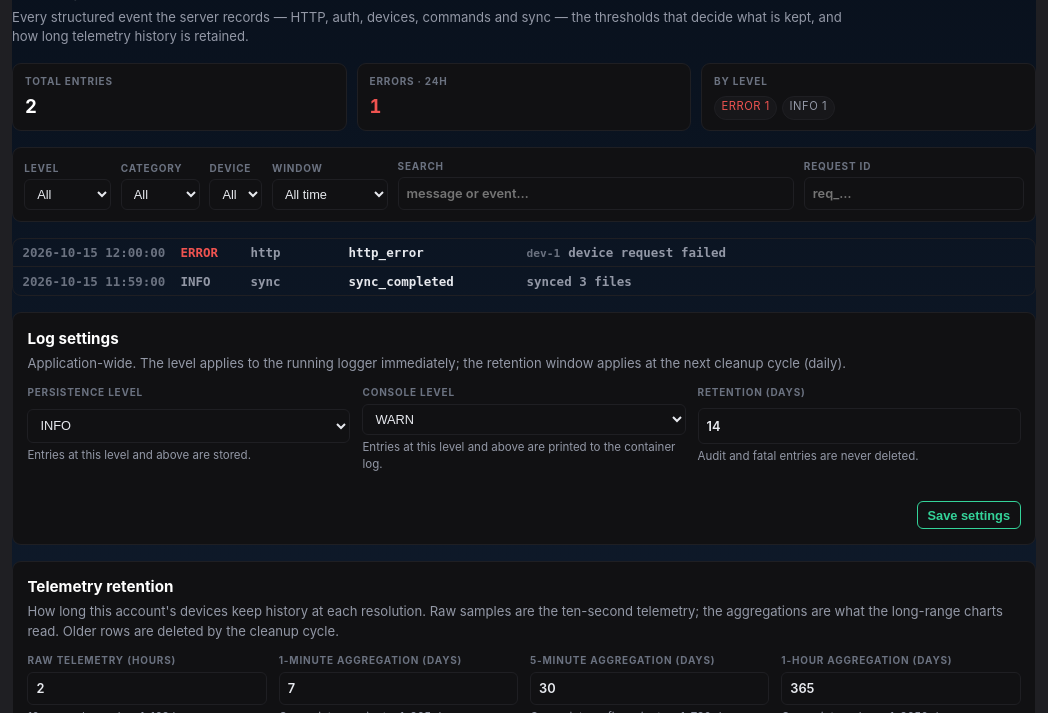
it: Application settings screen › saves telemetry retention and confirms
The width and height of the screenshot is (1048, 713).
Replace the text in the number field labelled "Raw telemetry (hours)" with "6" at (147,689), box [27,672,267,705]
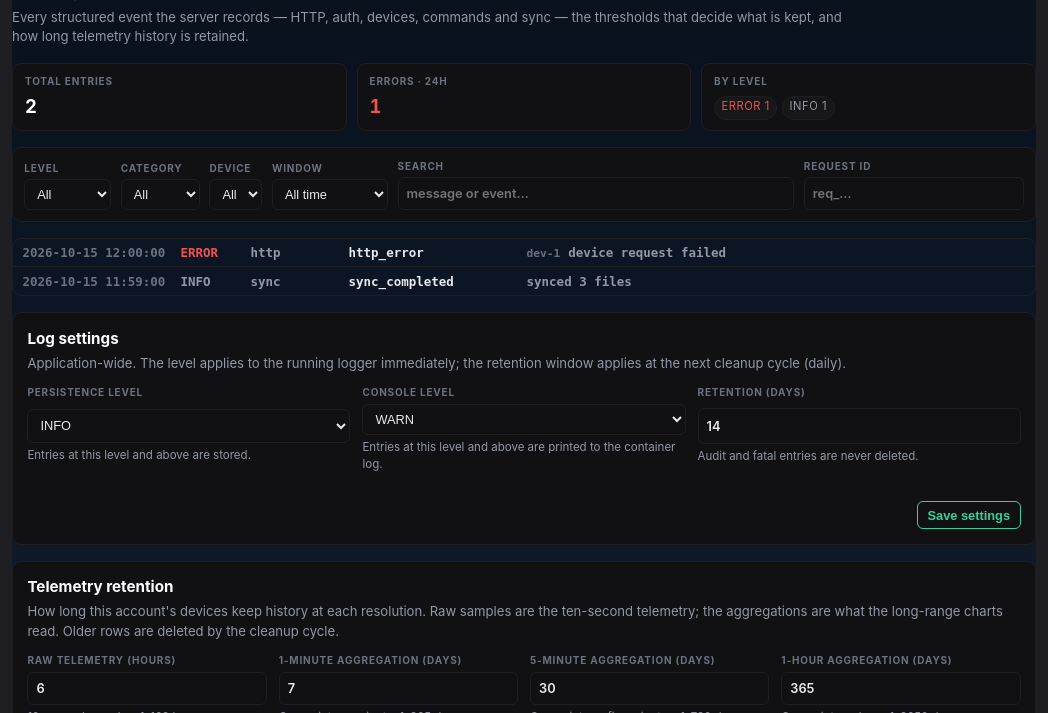
Replace the text in the number field labelled "1-minute aggregation (days)" with "14" at (398,689), box [279,672,518,705]
(page scrolled)
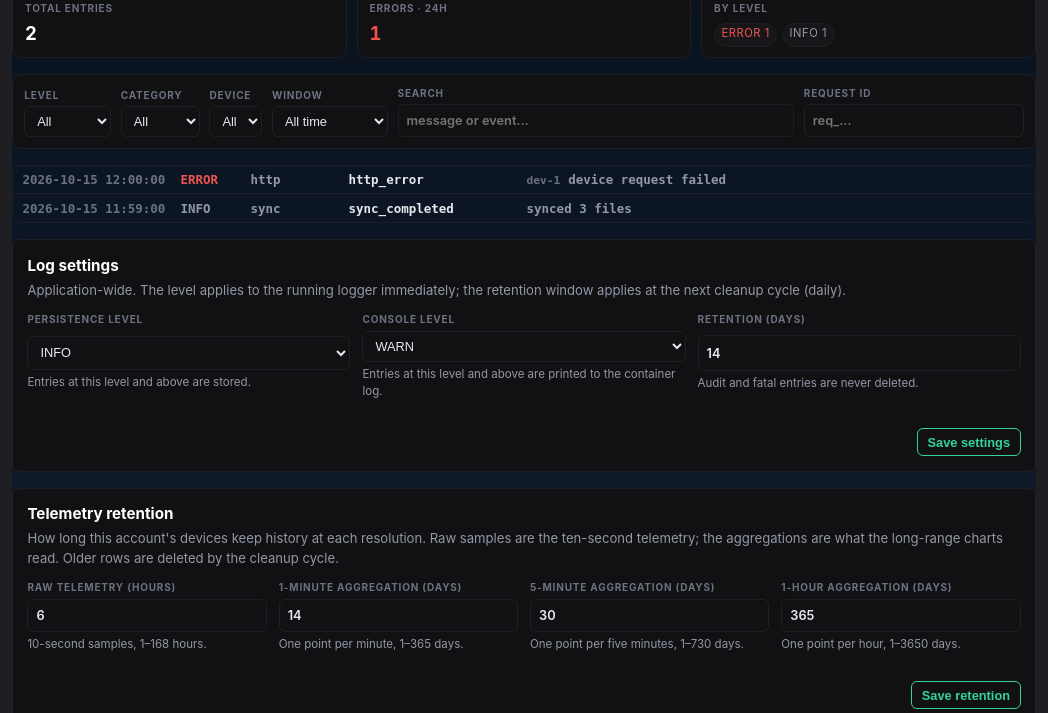
Click the button "Save retention" at (966,695), box [911,681,1021,709]
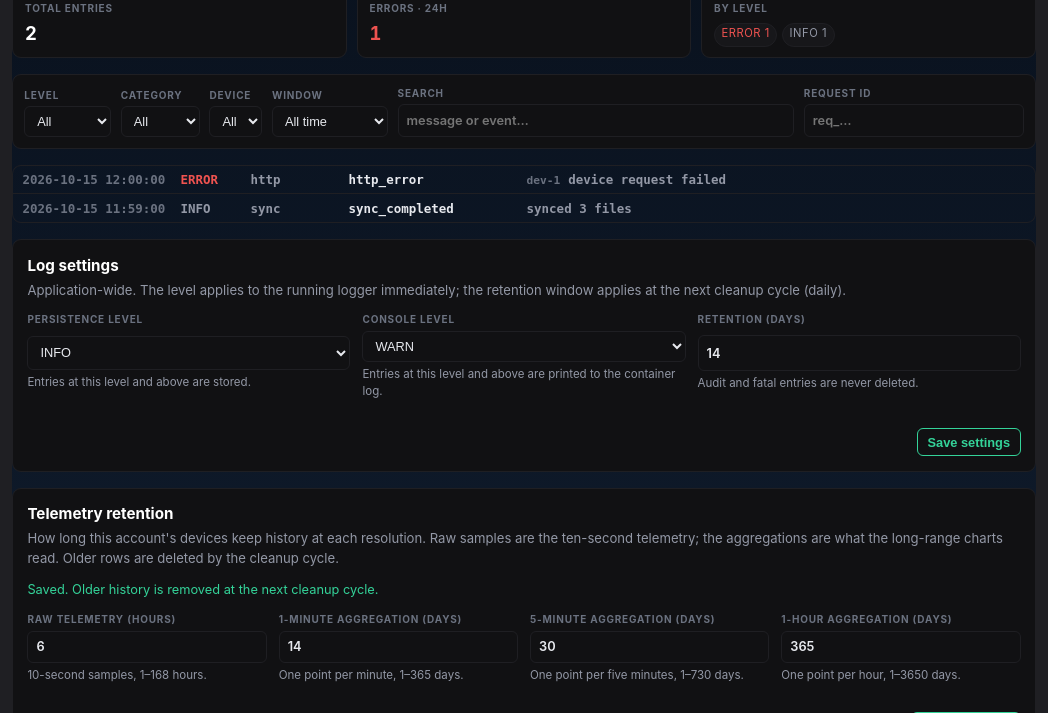
Expected: the text "Saved. Older history is removed at the next cleanup cycle." is shown, [27,582,378,597]
